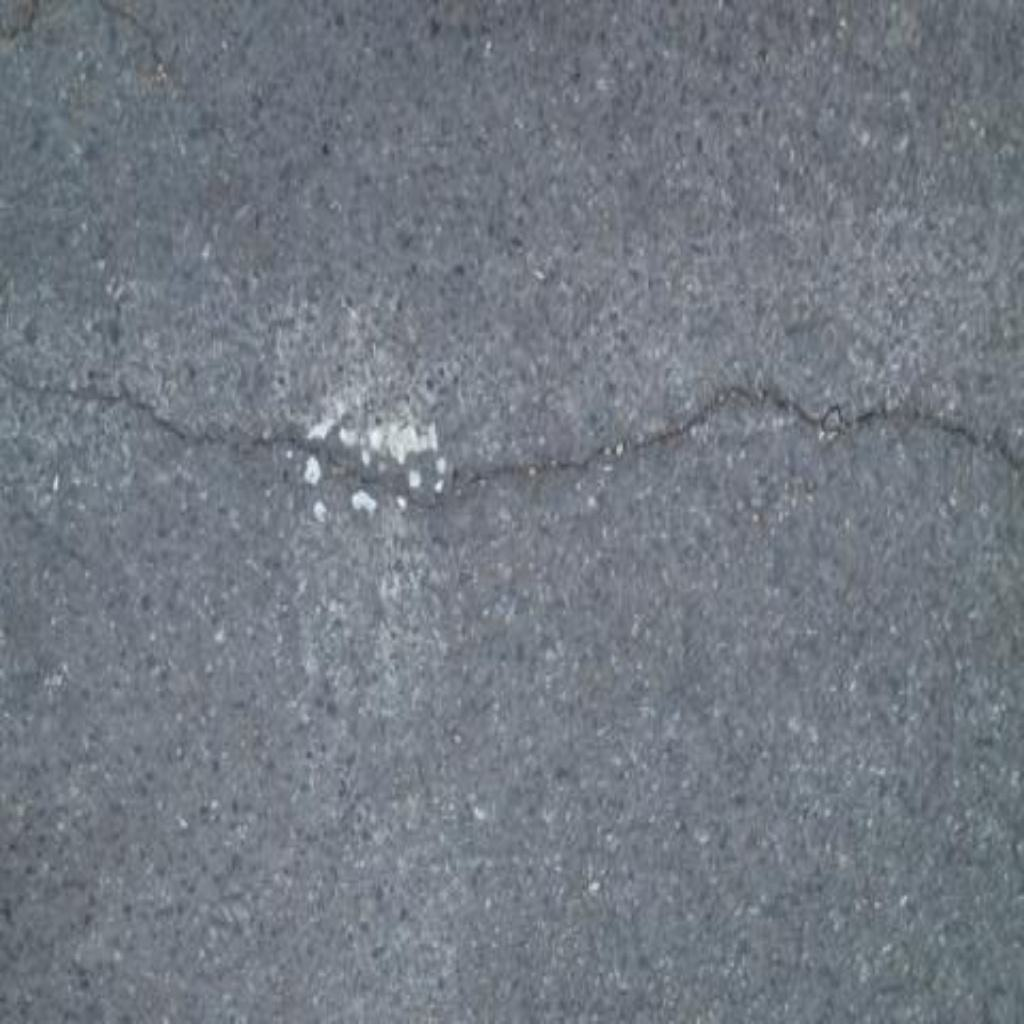Crack: (1, 370, 1024, 512)
